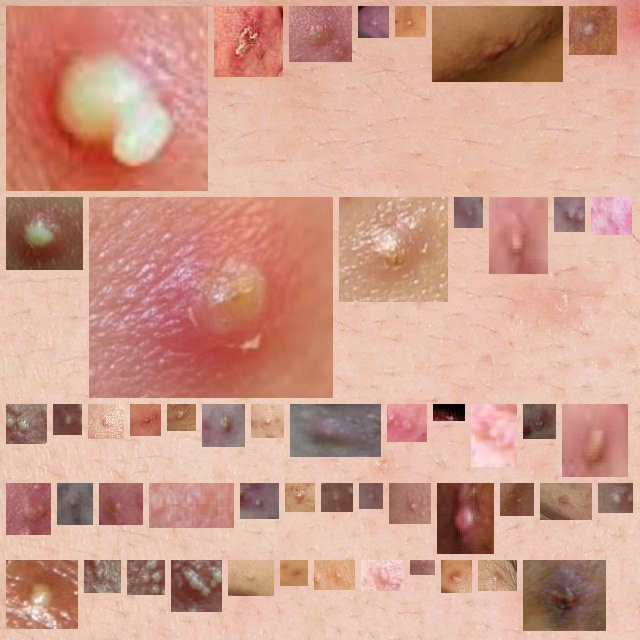pustule: (97, 205, 325, 390), (14, 14, 200, 183), (347, 205, 440, 294), (440, 14, 555, 74), (531, 568, 598, 623), (14, 205, 75, 262), (14, 568, 70, 621), (222, 14, 275, 69), (570, 412, 620, 469), (298, 412, 373, 449), (497, 205, 540, 266), (445, 491, 486, 546), (157, 491, 226, 520), (297, 14, 344, 54), (479, 412, 509, 459), (179, 568, 214, 604), (14, 491, 43, 527), (548, 491, 584, 512), (210, 412, 237, 439), (107, 491, 135, 517), (397, 491, 423, 516), (14, 412, 39, 436), (236, 568, 266, 588), (369, 562, 396, 583), (599, 205, 624, 227), (395, 412, 419, 434), (65, 491, 85, 517), (248, 491, 271, 511), (135, 568, 157, 587), (96, 412, 116, 431), (92, 568, 113, 585), (322, 568, 347, 582), (486, 568, 509, 583), (531, 412, 548, 431), (259, 412, 276, 430), (508, 491, 526, 508), (562, 205, 577, 224), (606, 491, 625, 505), (449, 568, 464, 585), (366, 14, 381, 30), (138, 412, 153, 428), (403, 14, 418, 29), (329, 491, 345, 504), (462, 205, 475, 220), (61, 412, 74, 427), (293, 491, 307, 504), (175, 412, 188, 423), (288, 568, 300, 578), (367, 491, 375, 501)
